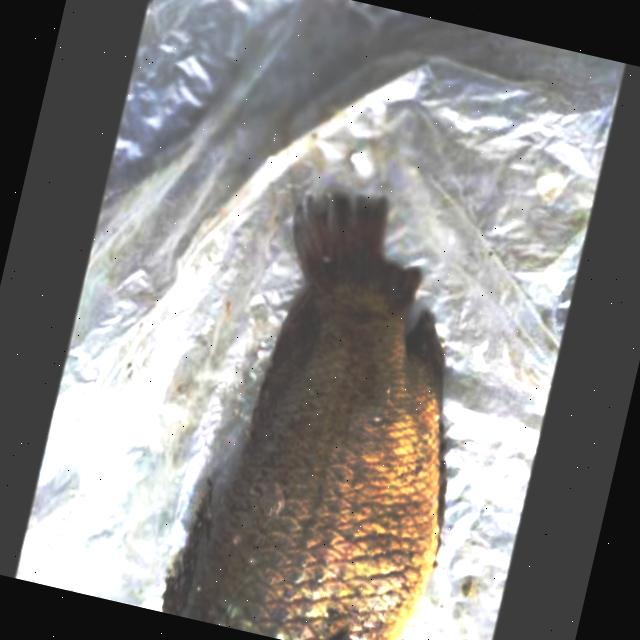Columnaris Disease: (162, 193, 441, 640)
